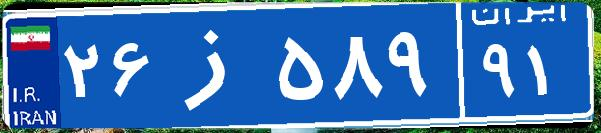1: (525, 38, 570, 115)
2: (57, 26, 110, 107)
5: (273, 28, 330, 110)
6: (110, 28, 158, 105)
8: (330, 28, 385, 110)
9: (385, 28, 445, 110), (475, 38, 525, 113)
ز: (158, 15, 273, 115)
